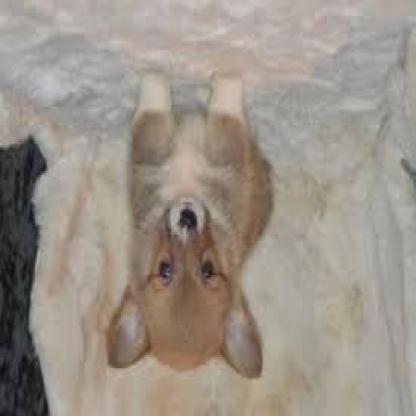dog: (105, 66, 276, 378)
